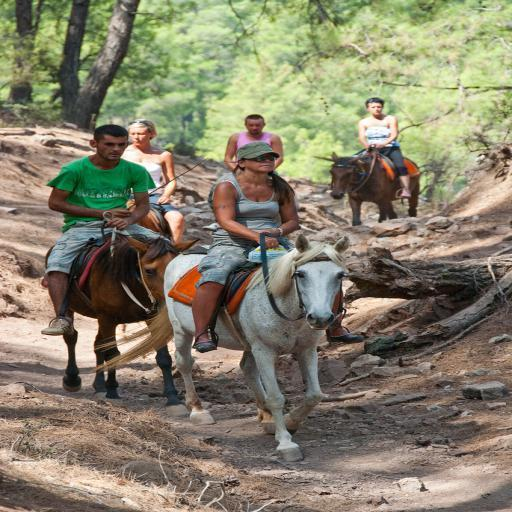horse: (90, 234, 352, 462), (44, 235, 206, 417), (331, 152, 423, 226)
